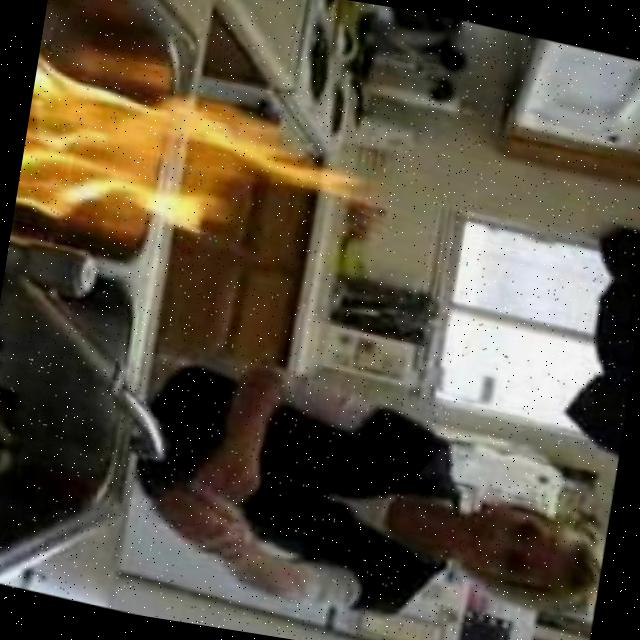fire: (9, 57, 383, 290)
